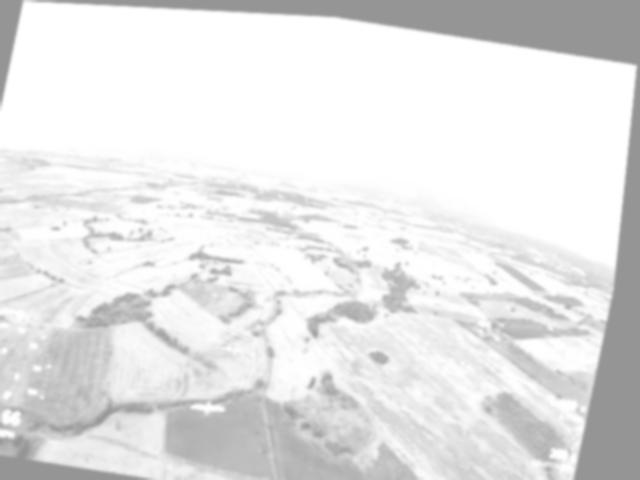hedef: (194, 391, 238, 421)
